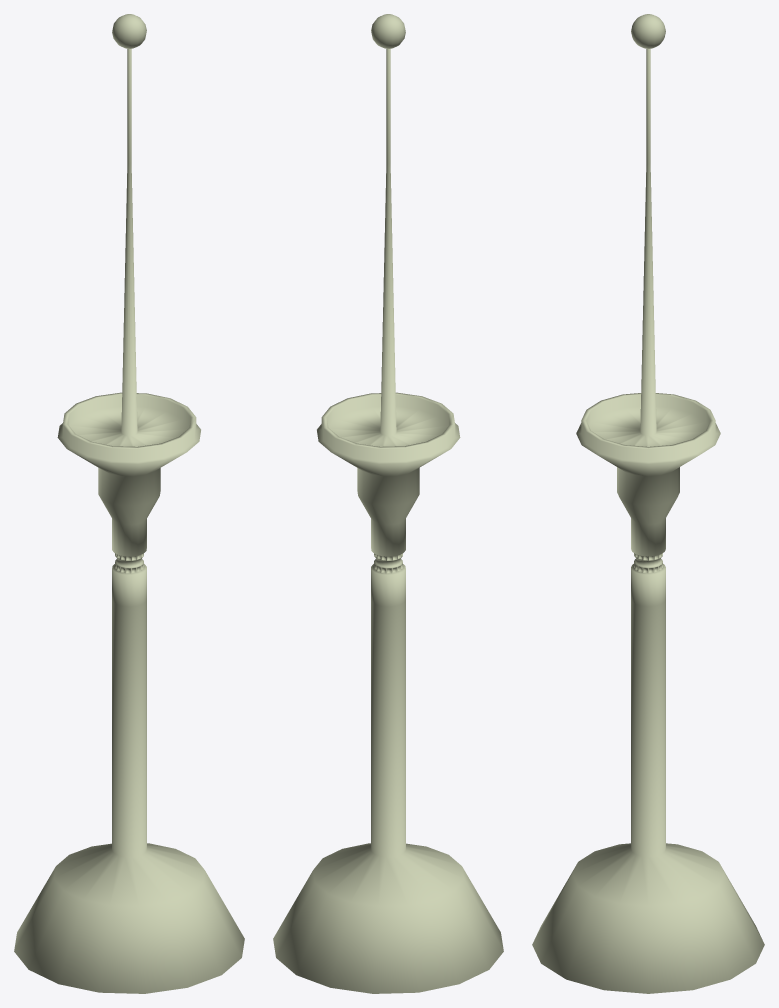
Rendered from Radio-Tower.obj.
3 views of the same model, side by side, from view 1: azimuth 30°, elevation 25°; view 2: azimuth 150°, elevation 25°; view 3: azimuth 270°, elevation 25° (orthographic).
Parts seen in each view (by area): view 1: Cylinder1, sphere2; view 2: Cylinder1, sphere2; view 3: Cylinder1, sphere2.
Part boxes in pixels (x1=…): Cylinder1: x1=14, y1=49, x2=244, y2=993; sphere2: x1=112, y1=14, x2=146, y2=48; Cylinder1: x1=273, y1=49, x2=503, y2=993; sphere2: x1=371, y1=14, x2=405, y2=48; Cylinder1: x1=532, y1=49, x2=764, y2=993; sphere2: x1=631, y1=14, x2=665, y2=48.
Bounding box in the file's own units: 13.27 × 58.48 × 13.27.
